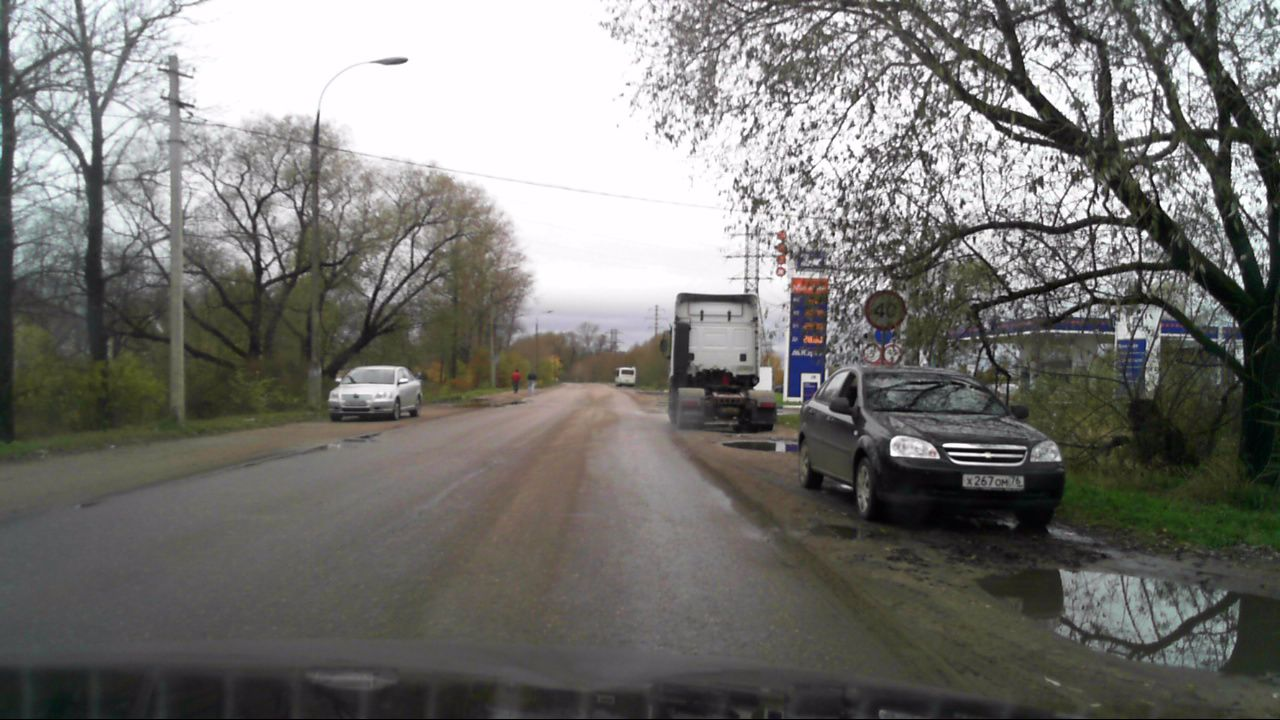speed_warning_40: (864, 289, 905, 330)
